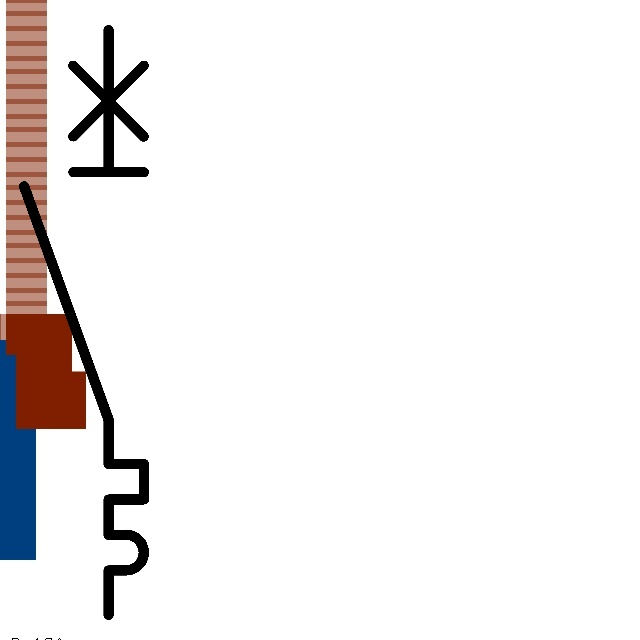interruptor_termomagnetico: (9, 15, 159, 630)
